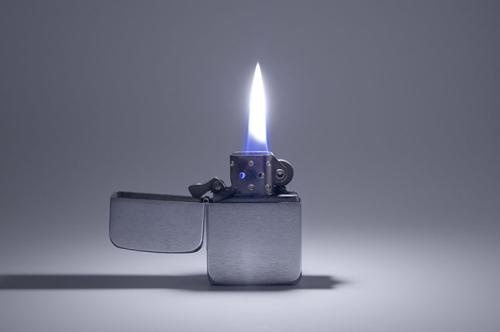fire: (243, 60, 272, 152)
